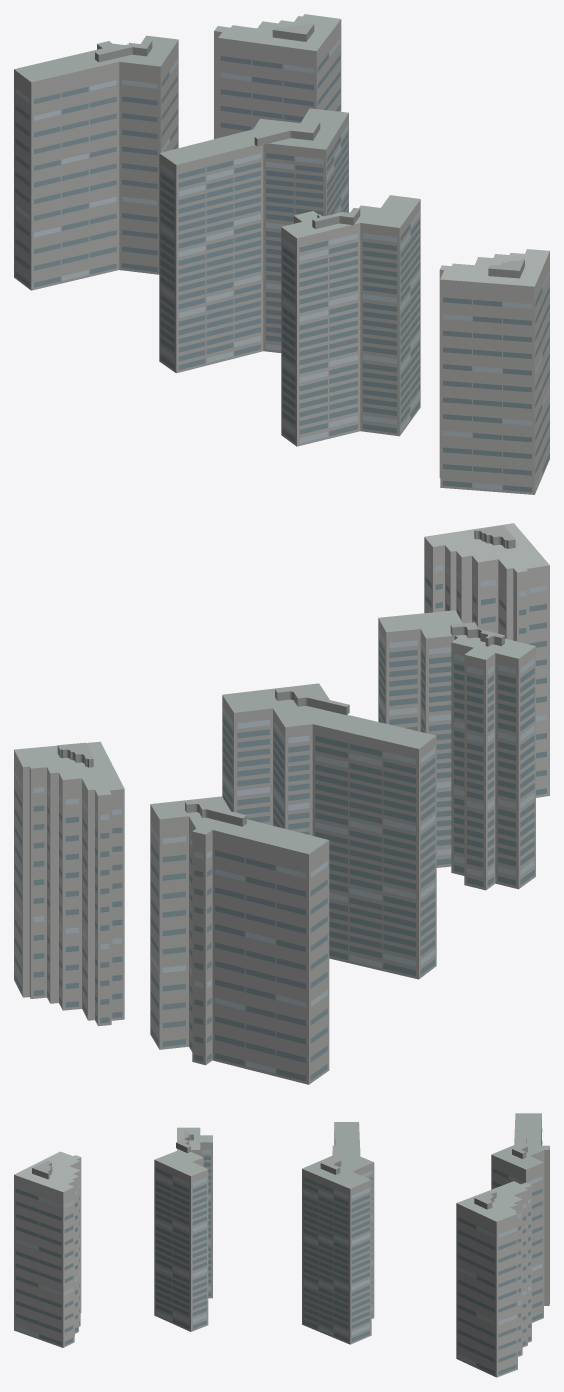
File: apt-a13778212.glb
The picture shows the model from 3 angles, top to bottom: view 1: azimuth 30°, elevation 25°; view 2: azimuth 150°, elevation 25°; view 3: azimuth 270°, elevation 25°; orthographic projection. The views are drawn at different scales.
Parts seen in each view (by area): view 1: apt-a13778212; view 2: apt-a13778212; view 3: apt-a13778212.
Boxes of the visible parts, box(x1,y1,x2,y2) form: apt-a13778212: box(14, 14, 549, 494); apt-a13778212: box(14, 523, 549, 1084); apt-a13778212: box(14, 1113, 549, 1377).
Size of the model in its own units: 99.53 by 69 by 208.
